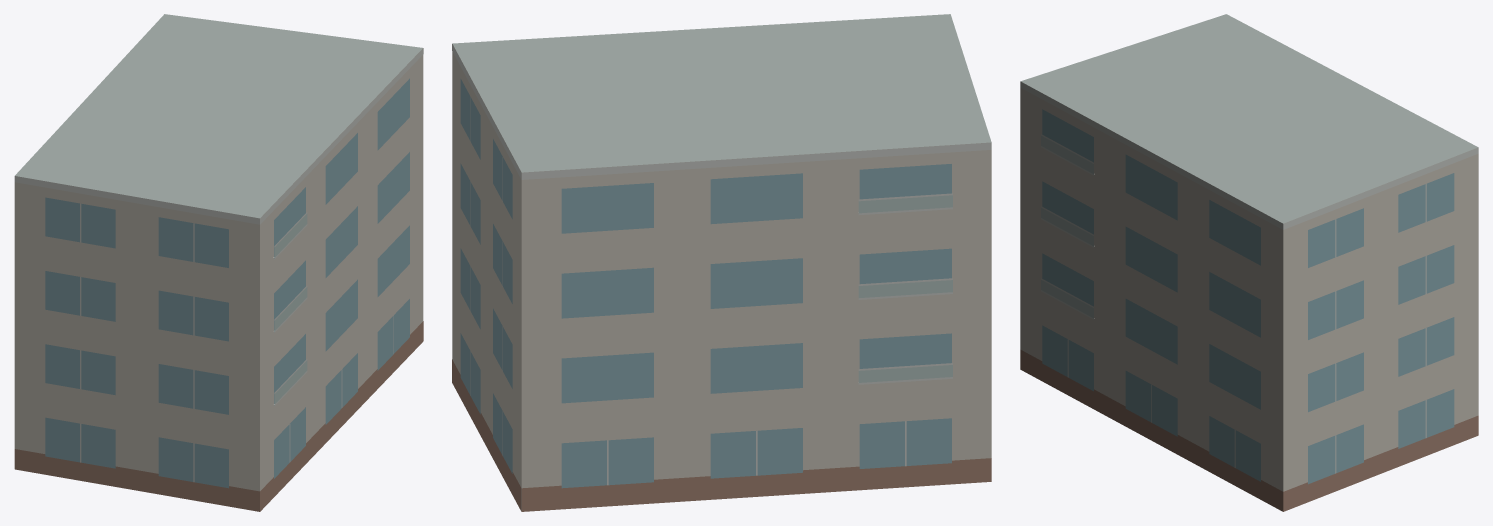
Rendered from survey-upis-32779664.glb.
3 views of the same model, side by side, from view 1: azimuth 30°, elevation 25°; view 2: azimuth 150°, elevation 25°; view 3: azimuth 270°, elevation 25° (orthographic). The views are drawn at different scales.
Visible parts, largest first — view 1: survey-upis-32779664.tmp; view 2: survey-upis-32779664.tmp; view 3: survey-upis-32779664.tmp.
Boxes of the visible parts, box(x1,y1,x2,y2) form: survey-upis-32779664.tmp: box(14, 14, 423, 511); survey-upis-32779664.tmp: box(452, 14, 991, 511); survey-upis-32779664.tmp: box(1020, 14, 1478, 511).
Bounding box in the file's own units: 17.49 × 11.2 × 16.15.
